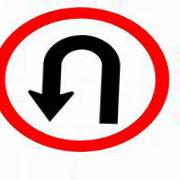back: (1, 7, 170, 152)
